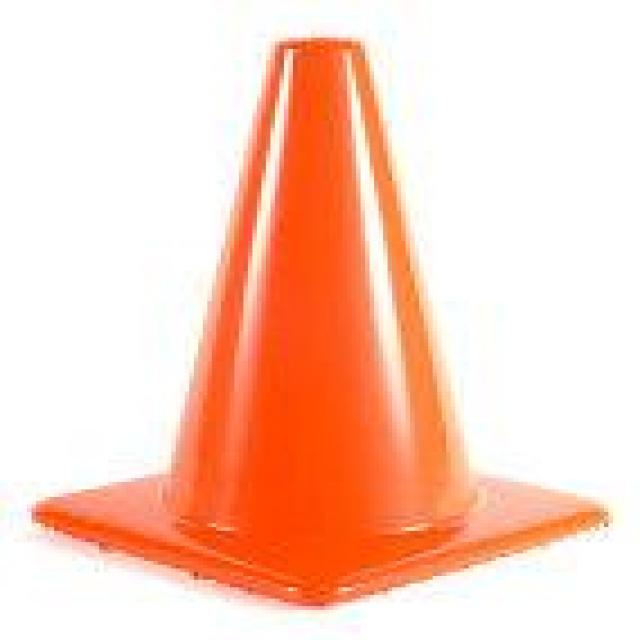Cone: (50, 38, 613, 594)
